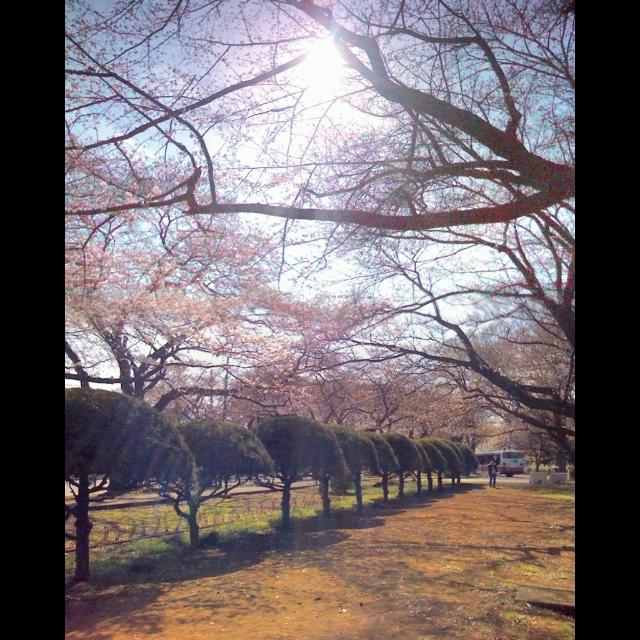Flower: (66, 1, 574, 456)
